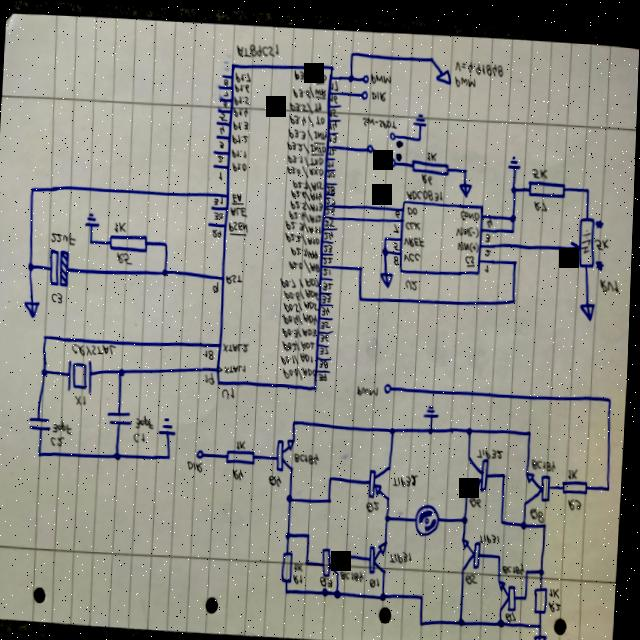capacitor: (48, 245, 71, 286), (108, 407, 134, 426), (30, 414, 53, 430)
ground: (160, 414, 179, 434), (84, 209, 101, 227), (506, 148, 521, 166), (424, 399, 441, 414), (412, 109, 428, 122)
junction: (161, 264, 169, 277), (87, 234, 96, 245), (115, 447, 123, 459), (466, 421, 475, 431), (511, 252, 520, 262), (509, 178, 517, 189), (336, 584, 344, 595), (527, 422, 535, 433), (162, 236, 170, 247), (522, 514, 530, 525), (357, 290, 365, 301), (346, 69, 354, 79), (460, 611, 468, 621), (428, 420, 436, 430), (292, 414, 300, 424), (390, 421, 398, 431), (38, 448, 46, 458), (119, 365, 127, 375), (386, 508, 393, 519), (28, 260, 35, 271), (499, 613, 508, 621), (584, 179, 591, 189), (357, 259, 364, 269), (509, 207, 516, 217), (29, 183, 36, 193), (421, 613, 428, 623), (511, 291, 518, 300), (348, 45, 355, 54), (42, 366, 49, 375), (383, 587, 389, 597), (415, 130, 422, 138), (288, 490, 295, 498), (606, 478, 613, 486), (498, 547, 505, 555), (462, 161, 468, 170), (541, 561, 547, 570), (422, 587, 428, 596), (608, 389, 614, 398), (168, 450, 174, 458), (287, 528, 293, 536), (464, 510, 470, 518), (502, 466, 508, 474), (287, 584, 293, 592), (502, 512, 508, 520), (510, 221, 516, 229), (43, 332, 49, 340), (383, 243, 389, 251), (540, 615, 546, 623), (544, 516, 550, 523), (527, 562, 532, 569), (329, 493, 334, 499), (330, 471, 335, 477), (307, 555, 312, 561), (526, 588, 530, 595), (428, 51, 432, 58), (309, 528, 313, 534), (384, 231, 388, 237)
resistor: (569, 209, 598, 262), (108, 231, 149, 252), (526, 173, 566, 194), (410, 153, 449, 172), (228, 445, 257, 462), (283, 547, 297, 579), (536, 579, 551, 608), (563, 473, 590, 488)
source: (24, 297, 41, 318), (579, 296, 596, 316), (457, 178, 472, 193), (380, 268, 394, 284), (536, 628, 551, 640)
switch: (365, 126, 397, 164)
terminal: (434, 63, 452, 81), (384, 378, 394, 390), (198, 445, 207, 456), (360, 86, 367, 96), (362, 70, 368, 80)
text: (454, 53, 503, 73), (235, 36, 279, 58), (73, 340, 118, 357), (287, 124, 327, 142), (285, 137, 326, 154), (292, 65, 327, 81), (283, 307, 318, 323), (280, 272, 320, 286), (285, 216, 322, 231), (283, 283, 320, 298), (283, 295, 320, 310), (284, 362, 318, 378), (291, 81, 325, 97), (281, 347, 315, 363), (288, 95, 322, 111), (286, 161, 324, 175), (288, 111, 325, 125), (394, 466, 421, 485), (288, 254, 320, 270), (405, 184, 444, 197), (361, 111, 397, 125), (287, 150, 323, 164), (282, 335, 317, 349), (285, 228, 320, 242), (283, 322, 317, 336), (288, 206, 322, 220), (289, 195, 324, 208), (292, 175, 324, 189), (223, 336, 249, 352), (290, 185, 322, 198), (50, 230, 77, 245), (455, 219, 480, 235), (290, 242, 319, 255), (223, 358, 248, 373), (403, 229, 425, 246), (532, 452, 558, 466), (295, 448, 322, 461), (392, 545, 415, 560), (453, 69, 476, 84), (136, 412, 157, 428), (54, 417, 75, 433), (456, 233, 478, 248), (504, 555, 527, 569), (600, 271, 620, 287), (478, 442, 505, 453), (228, 218, 249, 232), (343, 565, 367, 577), (581, 222, 592, 248), (357, 380, 380, 392), (369, 68, 390, 81), (403, 245, 422, 259), (531, 160, 548, 175), (460, 205, 481, 217), (116, 249, 134, 263), (550, 631, 577, 640), (481, 527, 503, 538), (531, 501, 546, 517), (222, 383, 237, 398), (113, 217, 128, 232), (231, 130, 248, 143), (226, 270, 244, 282), (595, 230, 610, 244), (229, 203, 248, 214), (405, 214, 421, 227), (189, 457, 205, 470), (231, 189, 245, 203), (321, 571, 336, 584), (533, 193, 548, 206), (232, 116, 248, 128), (234, 68, 250, 80), (232, 103, 249, 114), (233, 92, 250, 103), (52, 433, 66, 446), (464, 248, 477, 262), (569, 492, 584, 504), (370, 86, 385, 98), (230, 145, 247, 155), (406, 273, 419, 286), (468, 567, 481, 580), (551, 594, 564, 607), (270, 471, 284, 483), (134, 429, 148, 441), (368, 496, 382, 508), (233, 80, 249, 90), (471, 491, 484, 503), (204, 345, 216, 358), (371, 572, 384, 584), (508, 604, 520, 617), (421, 168, 433, 181), (232, 158, 246, 169), (52, 290, 64, 302), (234, 465, 246, 477), (551, 581, 563, 593), (75, 393, 88, 403), (212, 277, 221, 291), (206, 371, 216, 383), (295, 569, 305, 581), (570, 461, 580, 473), (323, 277, 334, 287), (211, 225, 222, 235), (238, 436, 248, 447), (406, 201, 418, 210), (320, 343, 330, 353), (321, 317, 331, 327), (322, 290, 332, 300), (324, 226, 334, 236), (325, 214, 335, 224), (213, 193, 223, 203), (296, 558, 306, 568), (426, 147, 436, 157), (320, 330, 331, 339), (213, 209, 224, 218), (330, 75, 338, 87), (319, 368, 329, 377), (320, 356, 330, 365), (322, 303, 331, 313), (323, 239, 333, 248), (218, 110, 228, 119), (329, 104, 338, 114), (323, 253, 334, 261), (326, 181, 335, 190), (325, 203, 335, 211), (326, 193, 336, 201), (392, 236, 400, 246), (329, 90, 337, 100), (329, 117, 337, 127), (329, 130, 337, 140), (393, 218, 400, 229), (393, 250, 400, 261), (327, 144, 336, 152), (218, 122, 225, 132), (323, 264, 331, 272), (485, 227, 491, 237), (486, 212, 492, 222), (327, 167, 335, 174), (217, 152, 224, 160), (217, 138, 224, 146), (394, 205, 400, 214), (485, 243, 491, 251), (328, 156, 334, 164), (222, 87, 228, 95), (484, 259, 490, 267), (223, 75, 228, 84), (218, 168, 222, 178), (222, 98, 227, 106)
transistor: (525, 465, 554, 501), (369, 460, 394, 496), (467, 451, 491, 488), (370, 534, 391, 570), (463, 532, 485, 566), (323, 543, 346, 574), (499, 574, 521, 606), (277, 434, 297, 469)
